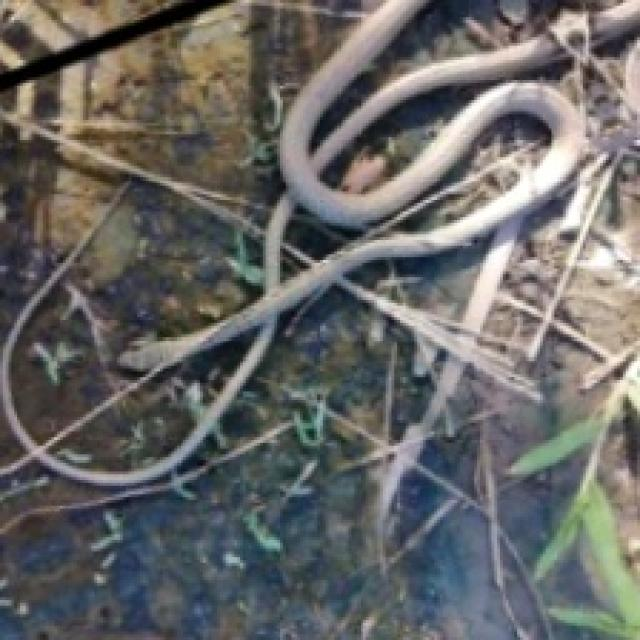paradise tree snake: (0, 0, 637, 531), (0, 0, 157, 66)
